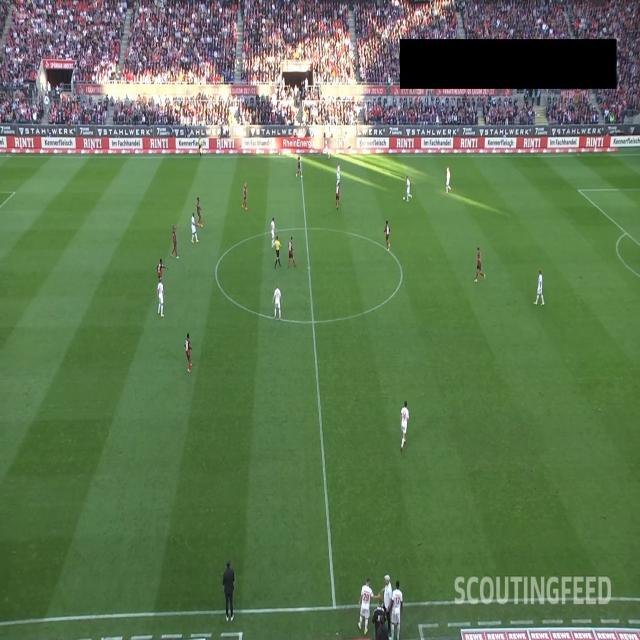ball: (403, 196, 405, 201)
